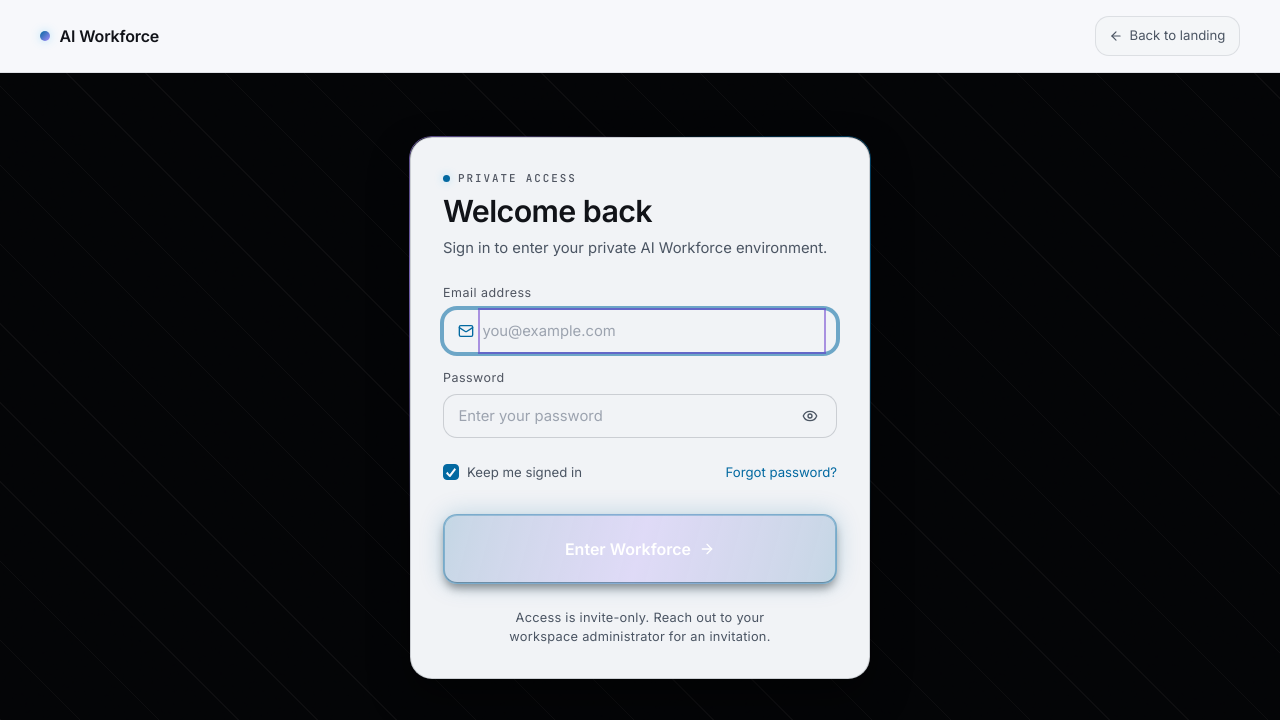
it: Login › validates accessibly and moves focus to the first invalid field
Click the button "Enter Workforce": point(640, 549) [443,514,837,584]
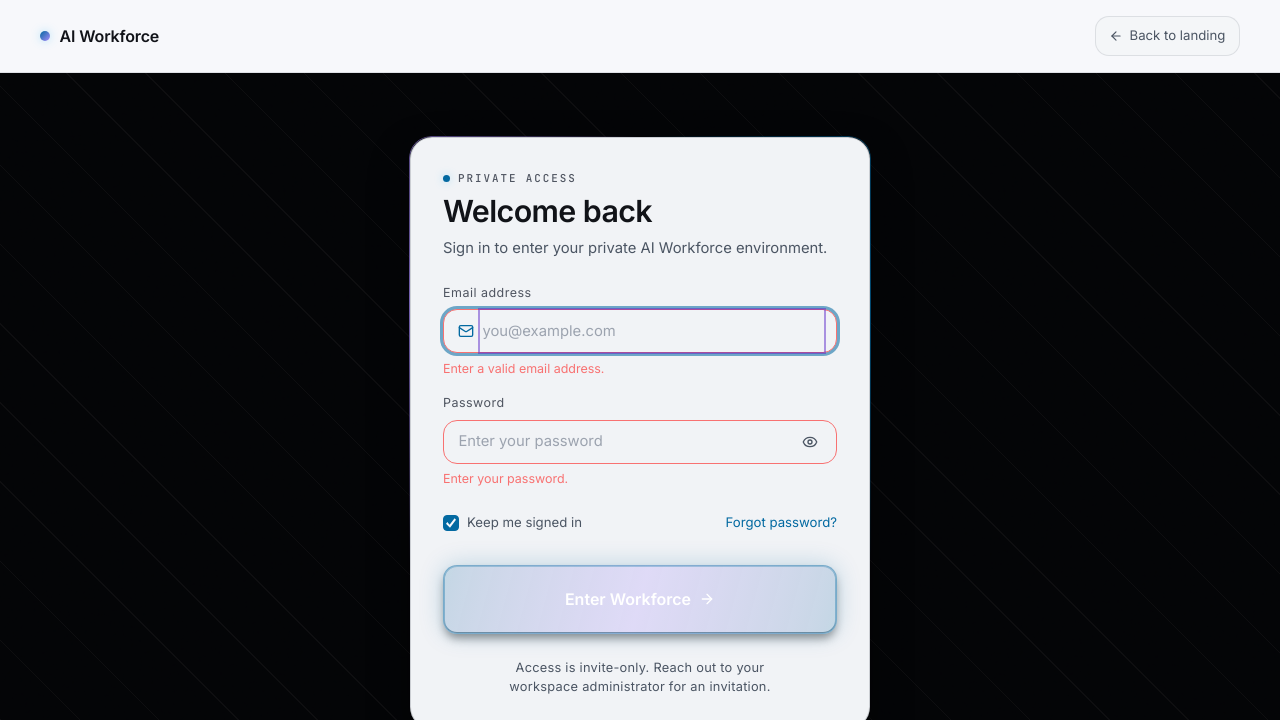
Now the text "Enter your password." is shown, box [443,471,568,486]
